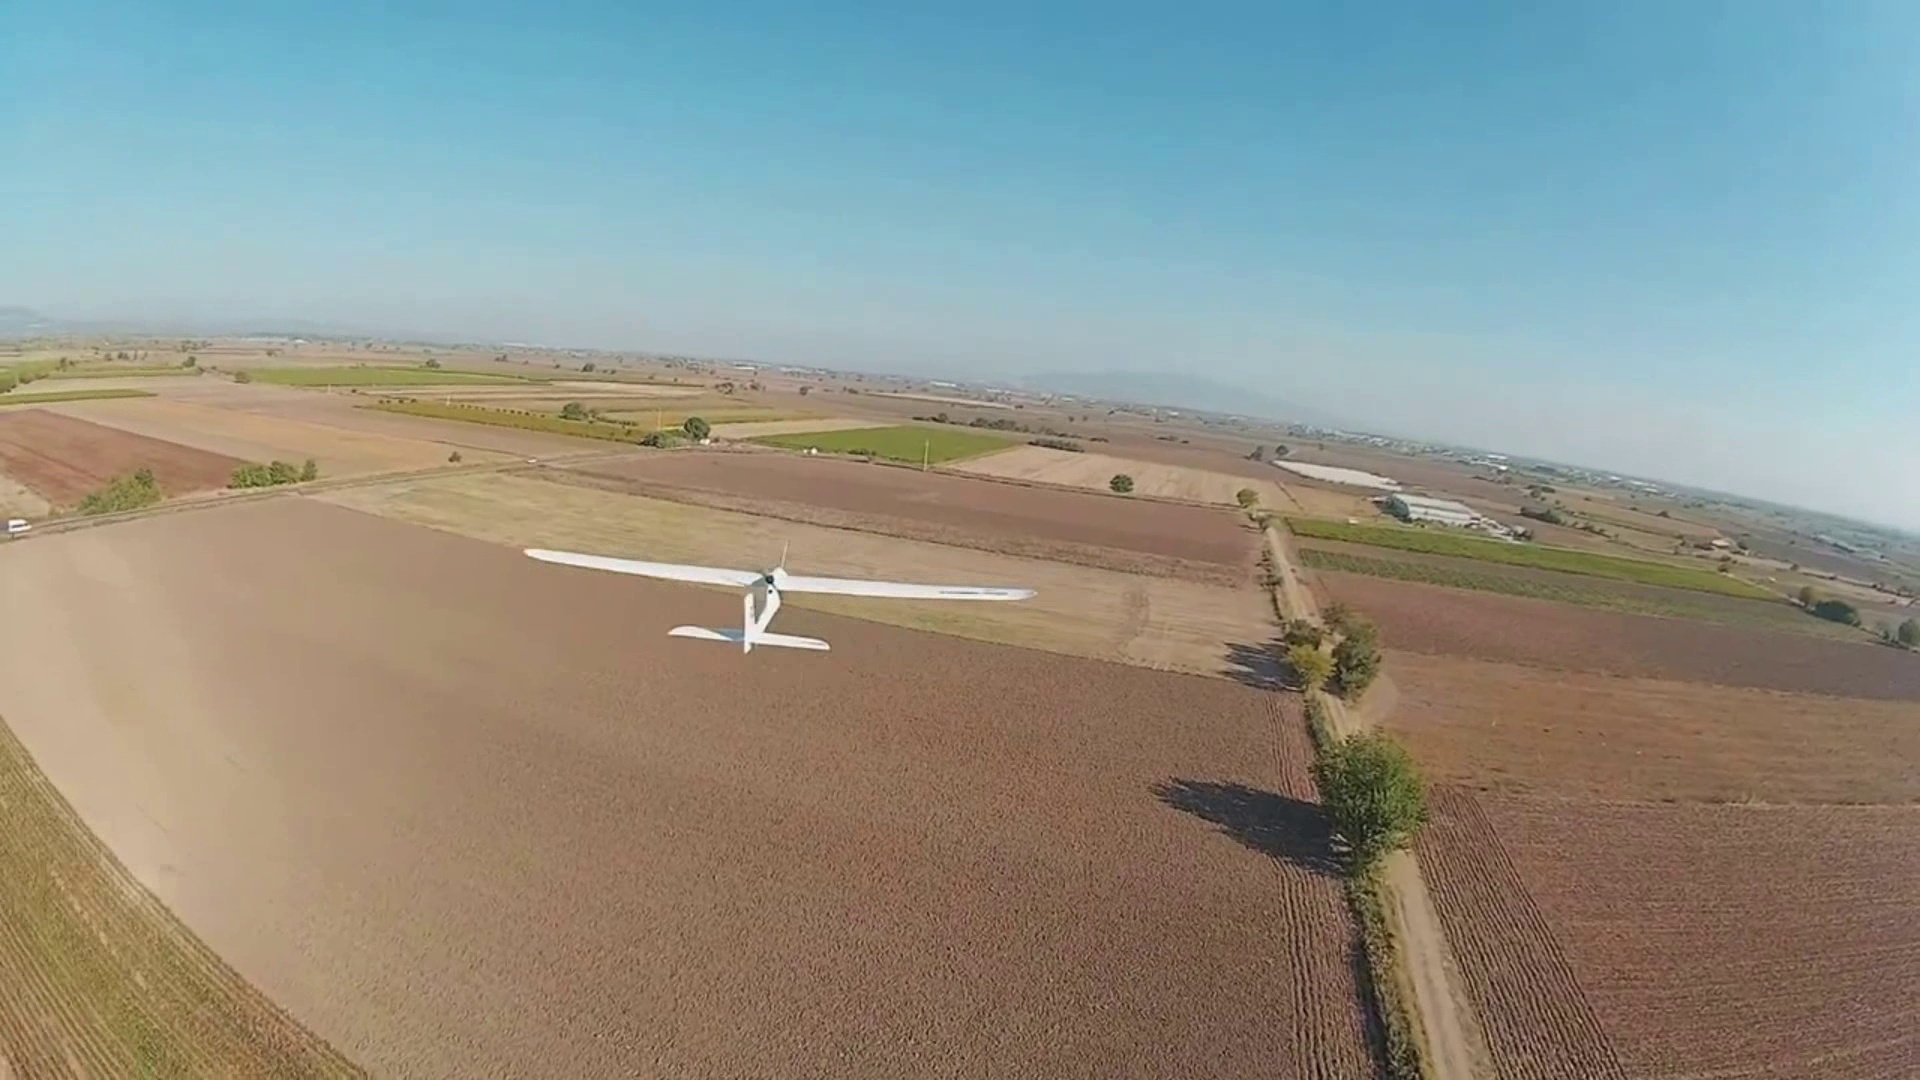airplane: (520, 549, 1035, 654)
